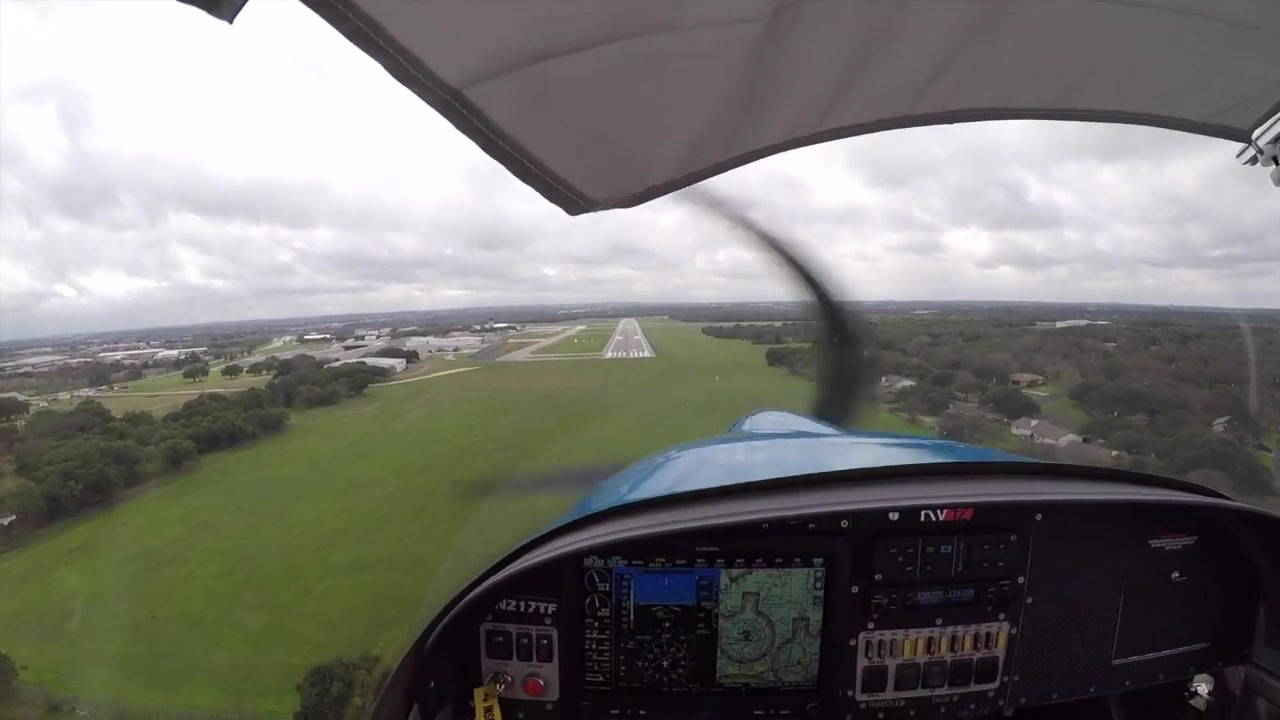entrance: (604, 350, 651, 358)
runway: (601, 316, 656, 361)
